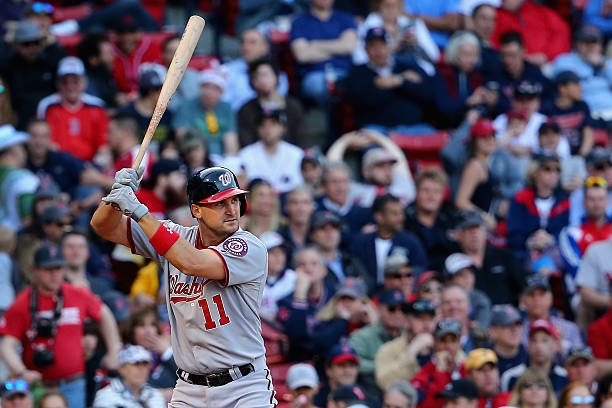bita: (123, 11, 204, 187)
